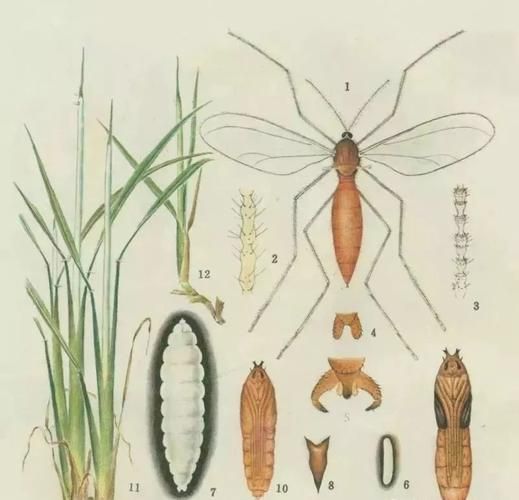Cecidomyiidae: (201, 25, 498, 360)
